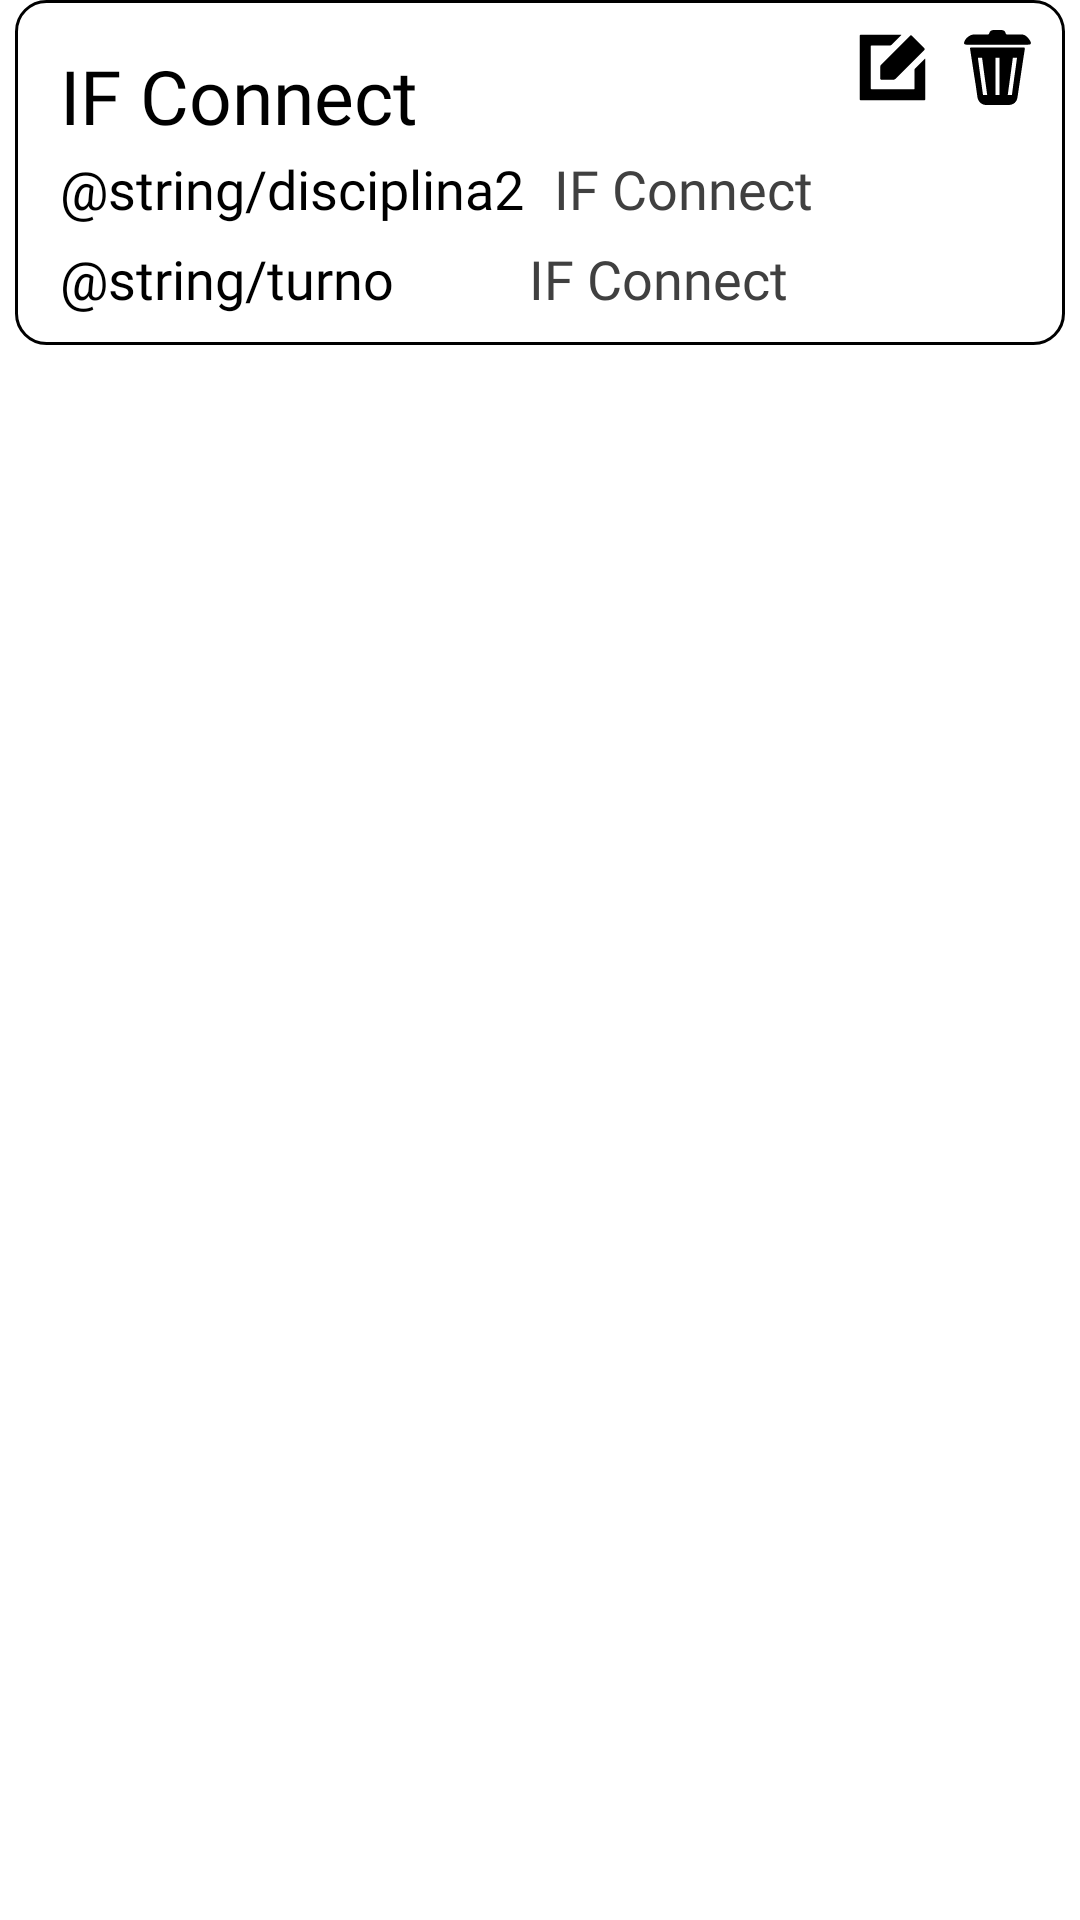

Screen size 1080 x 1920. Icon name, then its center in pixels as (x,y):
delete: (997,67)
edit: (892,67)
